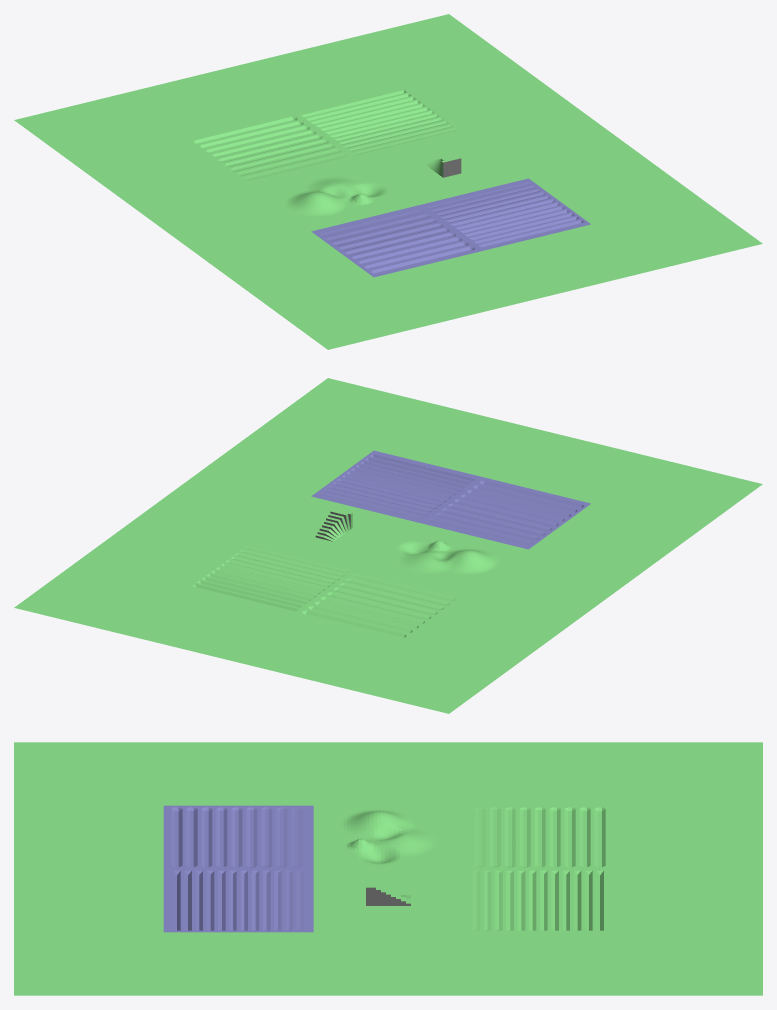
File: glf_course_angle.glb
3 renders of one model, top to bottom at view 1: azimuth 30°, elevation 25°; view 2: azimuth 150°, elevation 25°; view 3: azimuth 270°, elevation 25°, orthographic. The views are drawn at different scales.
Visible parts, largest first — view 1: collision_0x0001, collision_0x0003; view 2: collision_0x0001, collision_0x0003; view 3: collision_0x0001, collision_0x0003, collision_0x000c.
Part boxes in pixels (x1,y1,x2,y2): collision_0x0001: [14, 14, 762, 349]; collision_0x0003: [311, 178, 590, 277]; collision_0x0001: [14, 378, 762, 713]; collision_0x0003: [311, 450, 590, 549]; collision_0x0001: [14, 742, 762, 995]; collision_0x0003: [163, 805, 313, 932]; collision_0x000c: [366, 887, 410, 905].
Size of the model in its own units: 4800 by 208 by 6000.
